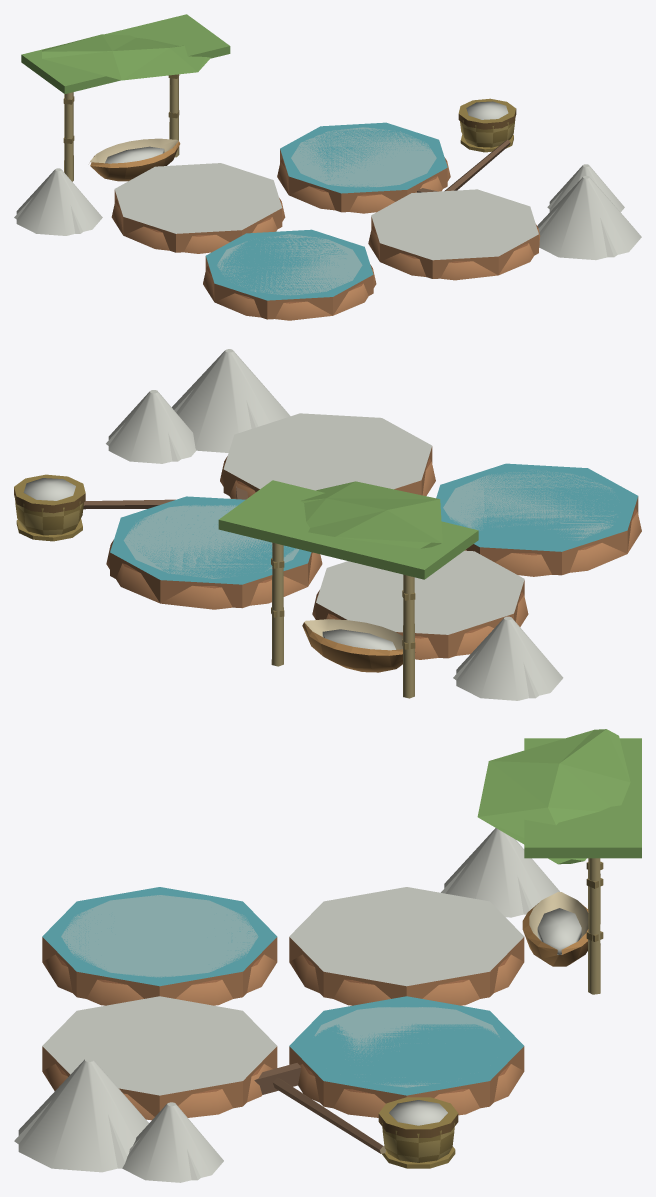
The model's file is saltpan.glb.
3 renders of one model, top to bottom at view 1: azimuth 30°, elevation 25°; view 2: azimuth 150°, elevation 25°; view 3: azimuth 270°, elevation 25°, orthographic. The views are drawn at different scales.
Parts seen in each view (by area): view 1: body, body__far, body_nl; view 2: body, body__far, body_nl; view 3: body, body__far, body_nl.
Boxes of the visible parts, x1,y1,x2,y2 form: body: (16, 74, 641, 320); body__far: (14, 14, 617, 319); body_nl: (42, 34, 210, 80); body: (14, 349, 641, 700); body__far: (106, 389, 638, 698); body_nl: (300, 481, 442, 548); body: (18, 828, 603, 1182); body__far: (14, 738, 641, 1180); body_nl: (477, 729, 630, 864).
Size of the model in its own units: 3.17 by 0.8399 by 2.67.
